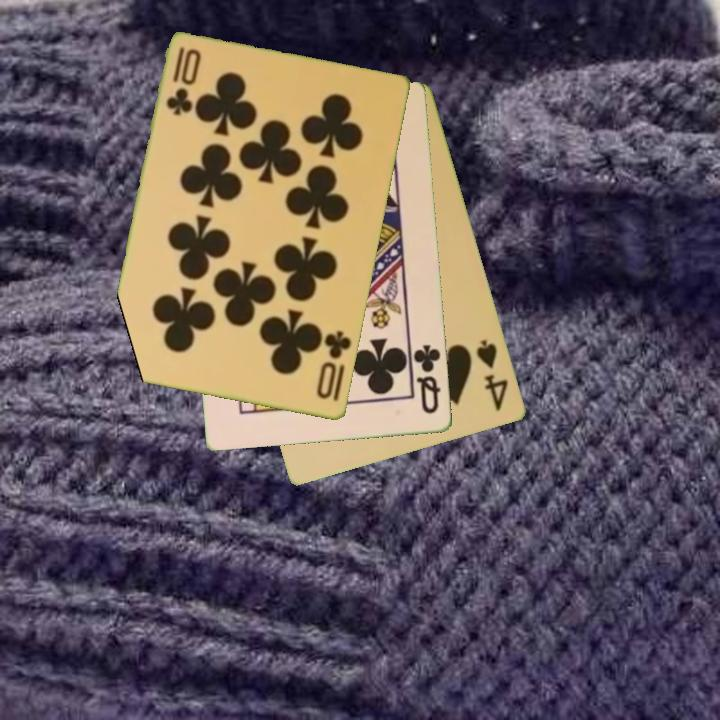10c: (313, 327, 355, 403), (163, 43, 204, 119)
4s: (473, 336, 512, 415)
Qc: (410, 341, 444, 417)
